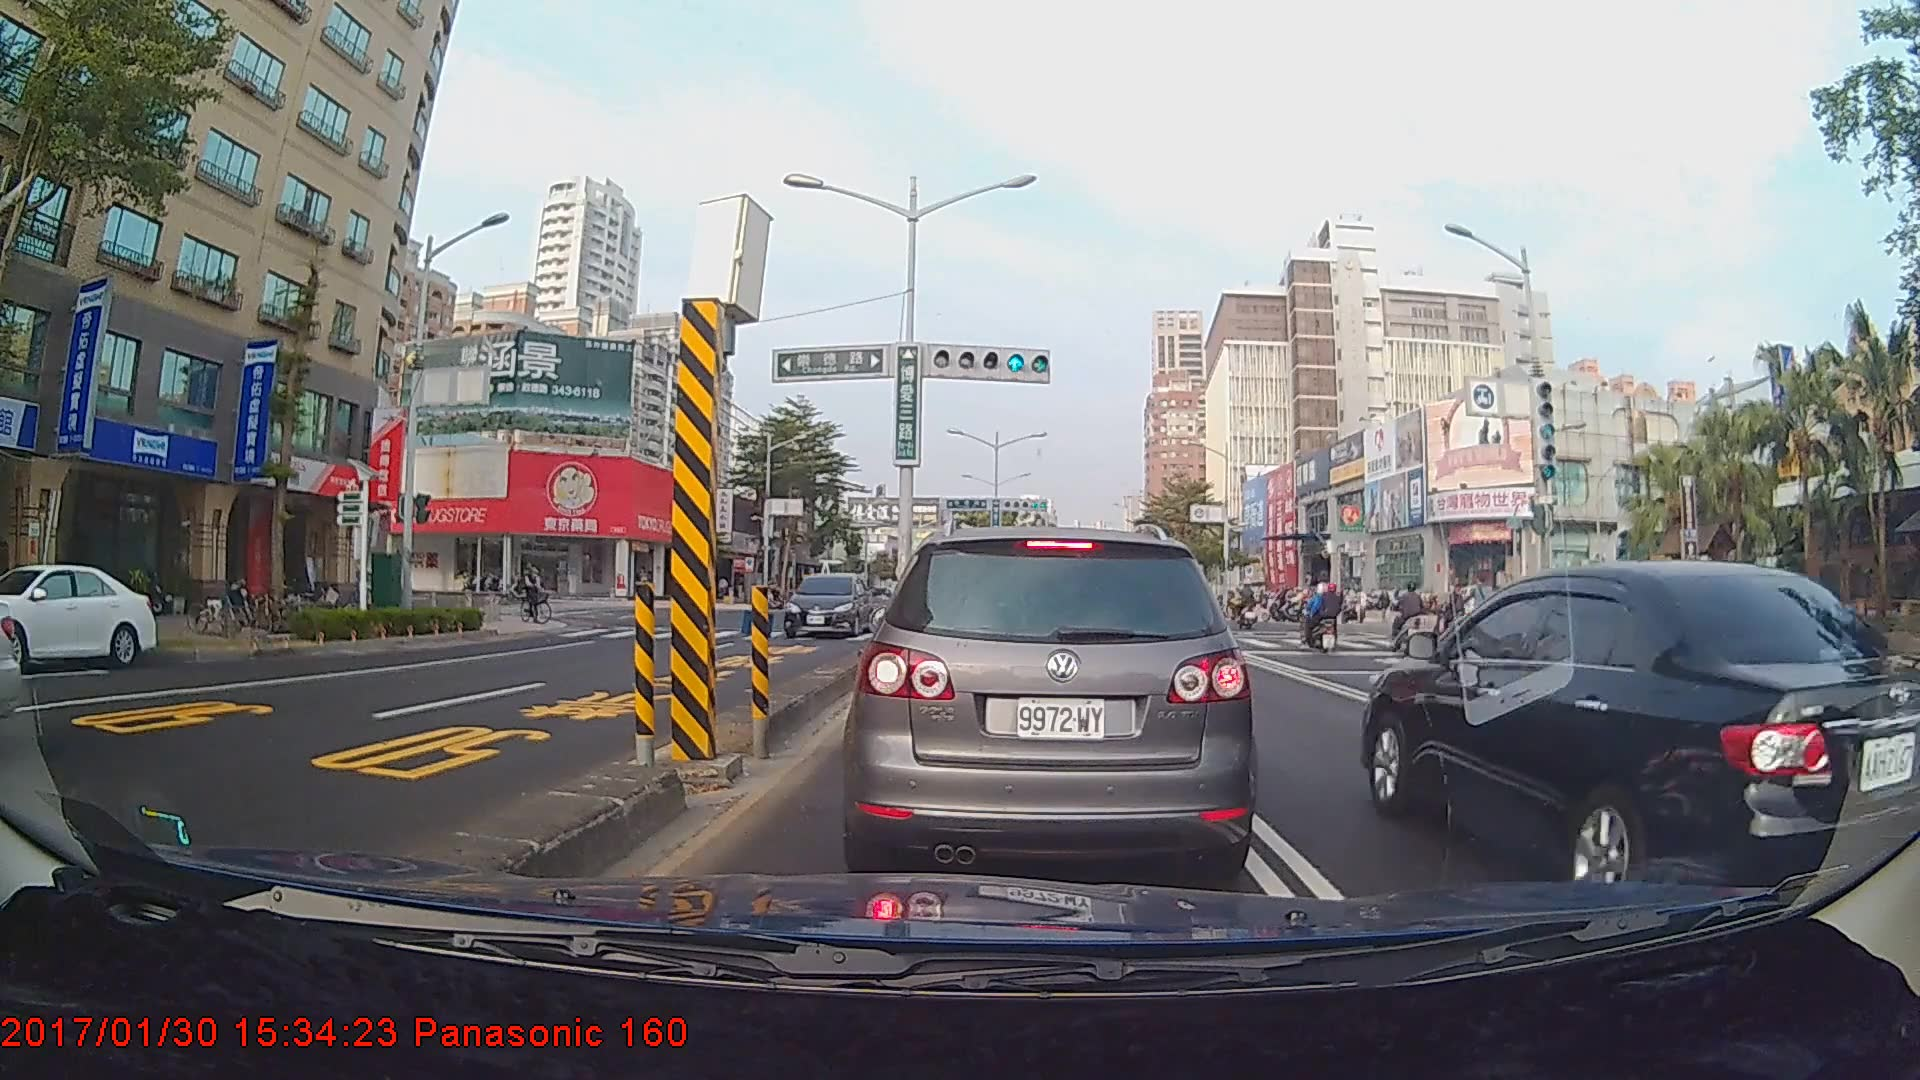rider: (1460, 570, 1514, 665), (1298, 582, 1352, 658), (1391, 580, 1439, 658), (518, 559, 561, 629)
vehicle: (1360, 555, 1916, 884), (854, 522, 1250, 879), (0, 561, 157, 671), (783, 571, 875, 637)
